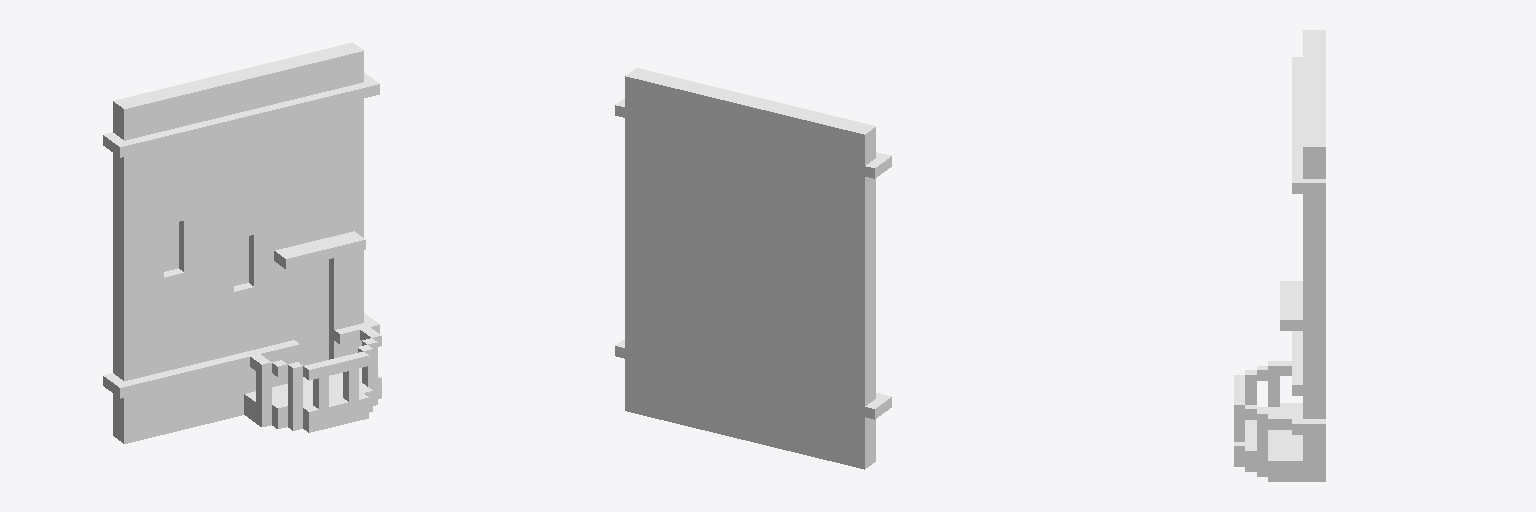
The model's file is tile_4_left_nr_90.obj.
The picture shows the model from 3 angles: view 1: azimuth 30°, elevation 25°; view 2: azimuth 150°, elevation 25°; view 3: azimuth 270°, elevation 25°; orthographic projection.
Parts seen in each view (by area): view 1: object 1; view 2: object 1; view 3: object 1.
Part boxes in pixels (x1,y1,x2,y2): object 1: (103, 42, 381, 443); object 1: (615, 68, 891, 469); object 1: (1234, 30, 1325, 481).
Bounding box in the file's own units: 2.6 × 3.2 × 0.8.